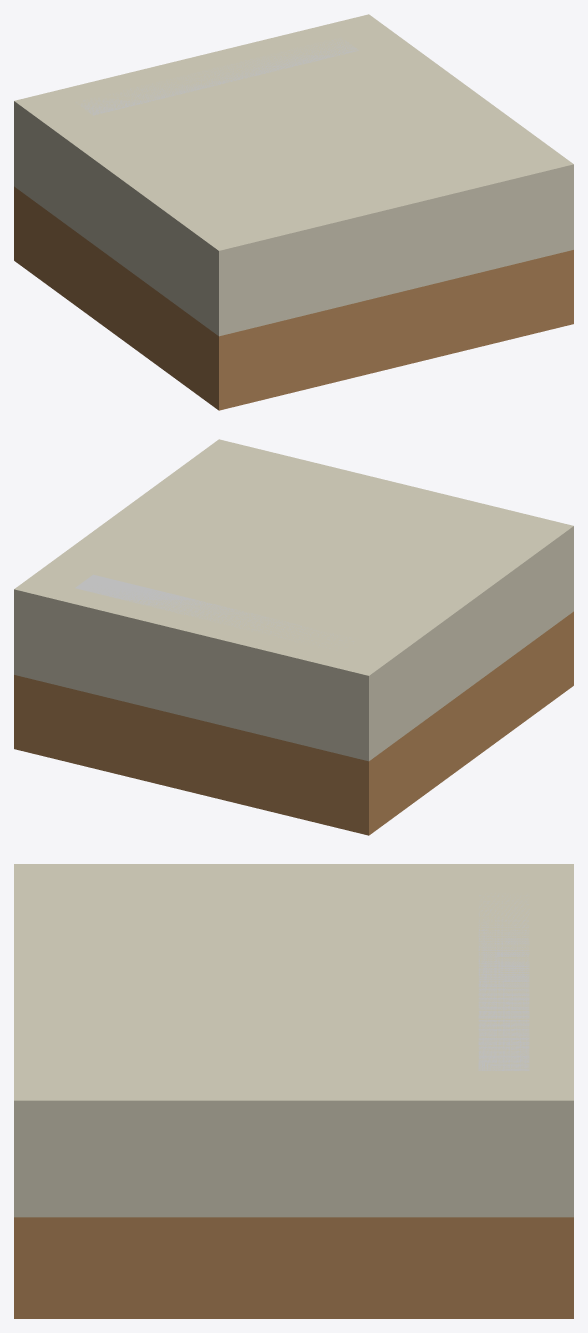
File: Building 8.FBX
3 renders of one model, top to bottom at view 1: azimuth 30°, elevation 25°; view 2: azimuth 150°, elevation 25°; view 3: azimuth 270°, elevation 25°, orthographic. The views are drawn at different scales.
Parts seen in each view (by area): view 1: Group251, Group252; view 2: Group251, Group252; view 3: Group251, Group252.
Boxes of the visible parts, x1,y1,x2,y2 form: Group251: [14, 14, 573, 410]; Group252: [76, 38, 509, 227]; Group251: [14, 439, 573, 835]; Group252: [75, 462, 512, 648]; Group251: [14, 864, 573, 1318]; Group252: [58, 893, 529, 1070].
Bounding box in the file's own units: 39.37 × 16.93 × 39.37.
